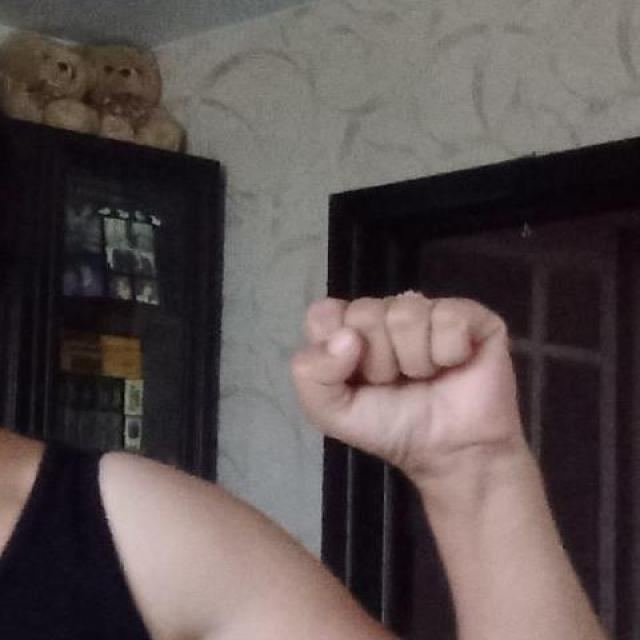hand: (288, 287, 528, 483)
